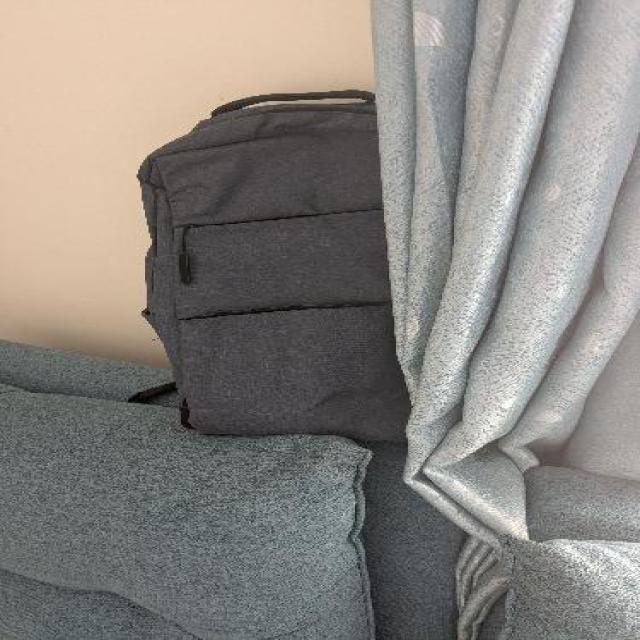canta: (128, 89, 411, 441)
